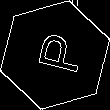P_W: (26, 31, 84, 79)
